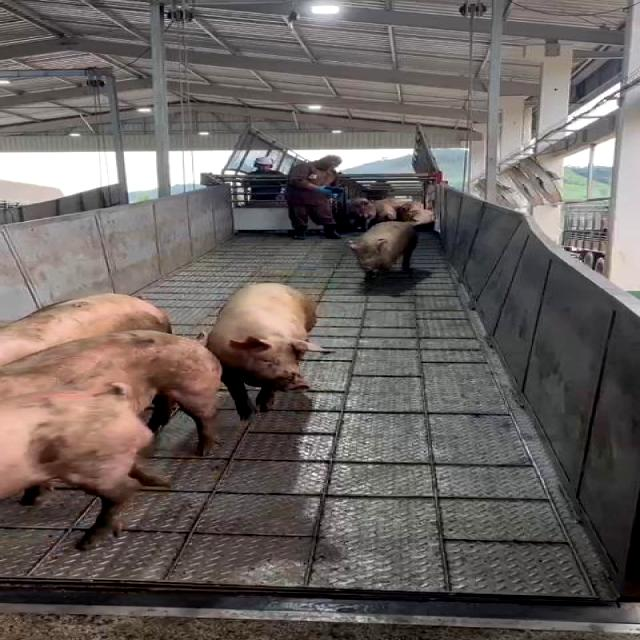pig: (0, 330, 222, 454), (0, 394, 170, 549), (206, 282, 325, 419), (0, 294, 171, 364), (348, 221, 417, 278)
